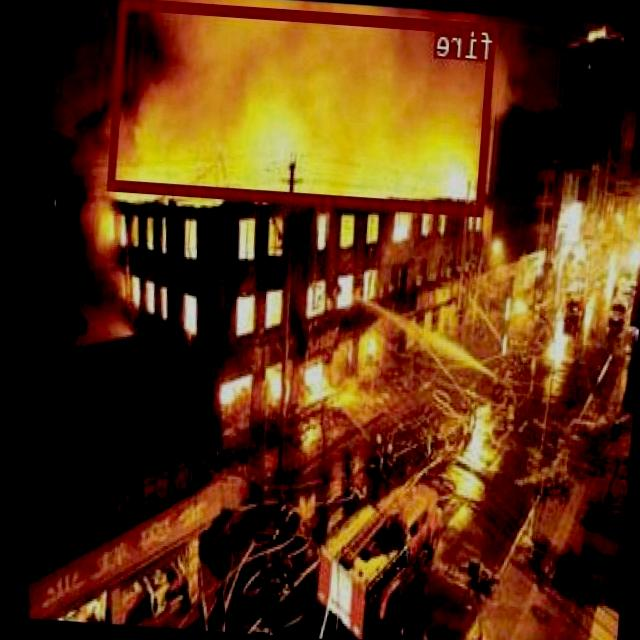fire: (108, 0, 497, 215)
